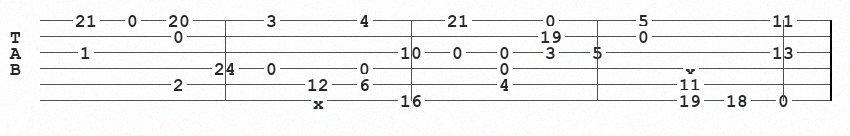0: (127, 12, 142, 28), (173, 28, 188, 44), (266, 60, 281, 76), (359, 60, 374, 76), (452, 44, 467, 60), (499, 60, 514, 76), (499, 44, 514, 60), (545, 12, 560, 28), (638, 28, 653, 44), (778, 92, 793, 108)
1: (80, 44, 95, 60)
10: (400, 44, 426, 60)
11: (679, 76, 705, 92), (772, 12, 798, 28)
12: (307, 76, 333, 92)
13: (772, 44, 798, 60)
16: (400, 92, 426, 108)
18: (726, 92, 752, 108)
19: (540, 28, 566, 44), (679, 92, 705, 108)
2: (173, 76, 188, 92)
20: (168, 12, 194, 28)
21: (75, 12, 101, 28), (447, 12, 473, 28)
24: (214, 60, 240, 76)
3: (266, 12, 281, 28), (545, 44, 560, 60)
4: (359, 12, 374, 28), (499, 76, 514, 92)
5: (592, 44, 607, 60), (638, 12, 653, 28)
6: (359, 76, 374, 92)
x: (313, 94, 328, 106), (685, 62, 700, 74)
